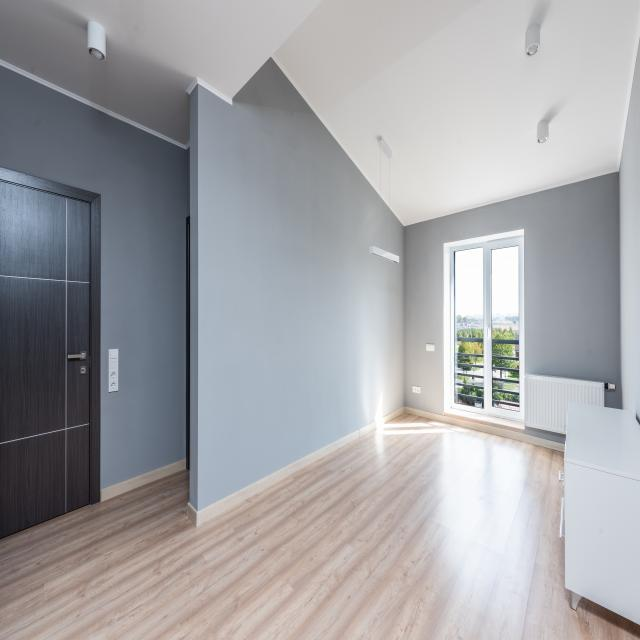floor: (0, 412, 640, 640)
wall: (198, 57, 405, 512), (0, 65, 187, 490), (404, 171, 621, 415), (619, 38, 640, 425), (190, 84, 198, 512), (524, 425, 566, 444), (187, 146, 190, 217)
